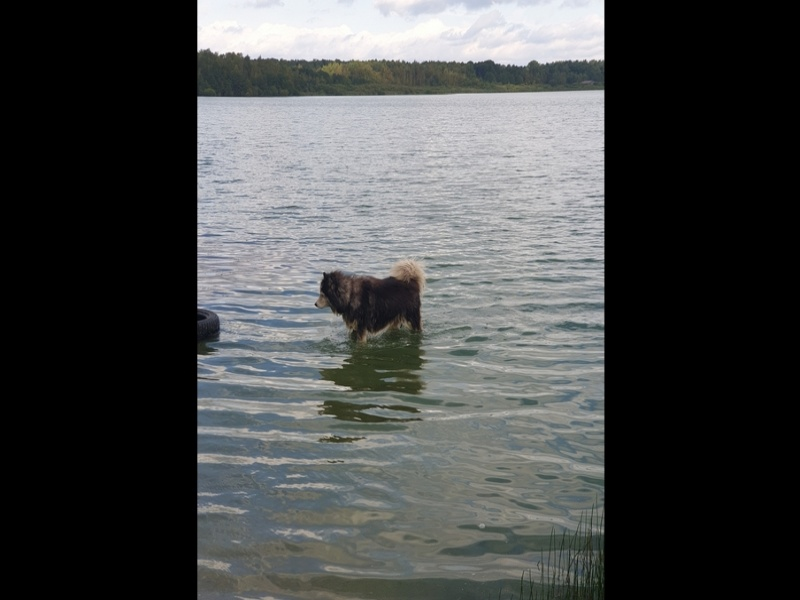dog: (313, 262, 431, 345)
